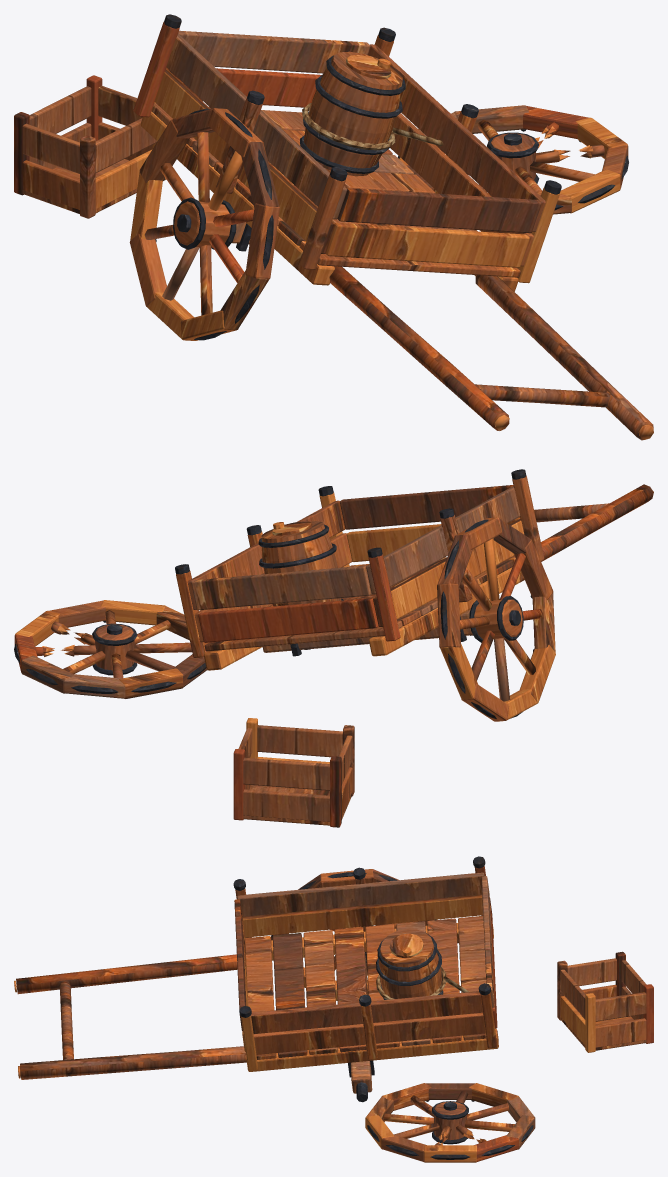
Rendered from ro_supply_cart.glb.
3 renders of one model, top to bottom at view 1: azimuth 30°, elevation 25°; view 2: azimuth 150°, elevation 25°; view 3: azimuth 270°, elevation 25°, orthographic. The views are drawn at different scales.
Parts seen in each view (by area): view 1: model; view 2: model; view 3: model.
Part boxes in pixels (x1,y1,x2,y2): model: [14, 14, 653, 440]; model: [14, 469, 653, 827]; model: [14, 856, 653, 1162].
Size of the model in its own units: 2.19 by 0.9666 by 3.3.
18 materials, 18 textured.
